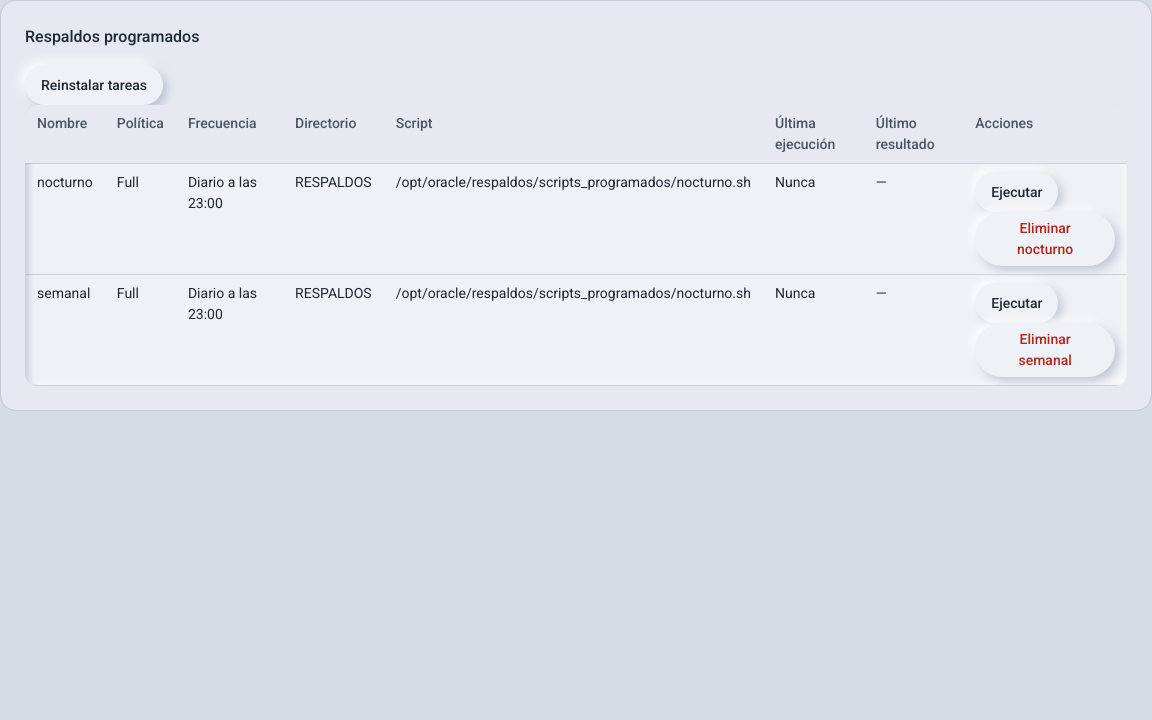
Test: botón Ejecutar › ante 404 muestra el detalle y recarga la lista
Step 1. Click the button with aria-label "Ejecutar nocturno" → {"x": 1017, "y": 192}, box [975,172,1058,212]
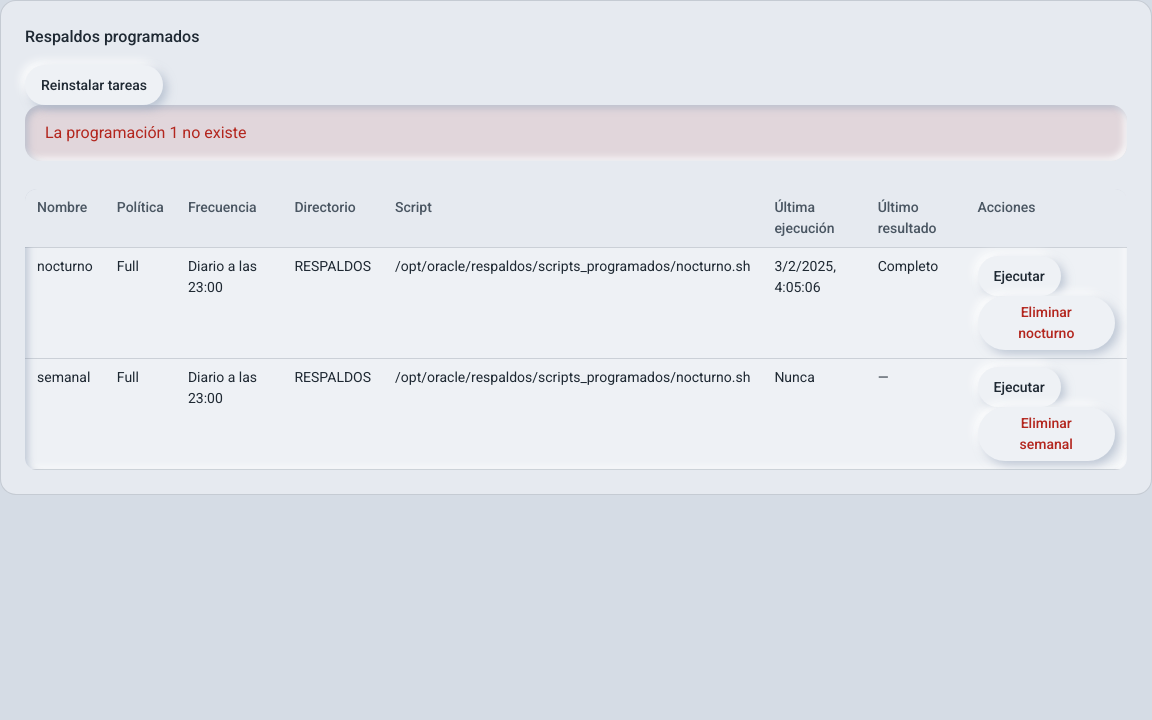
Result: the message reads "La programación 1 no existe" at [45,123,247,142]
